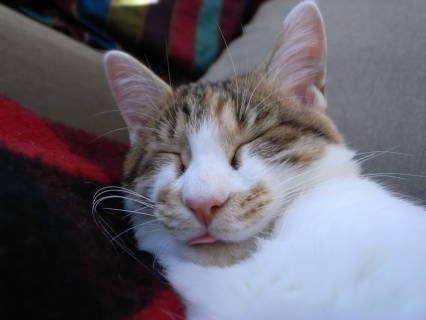Cat: (90, 0, 426, 319)
